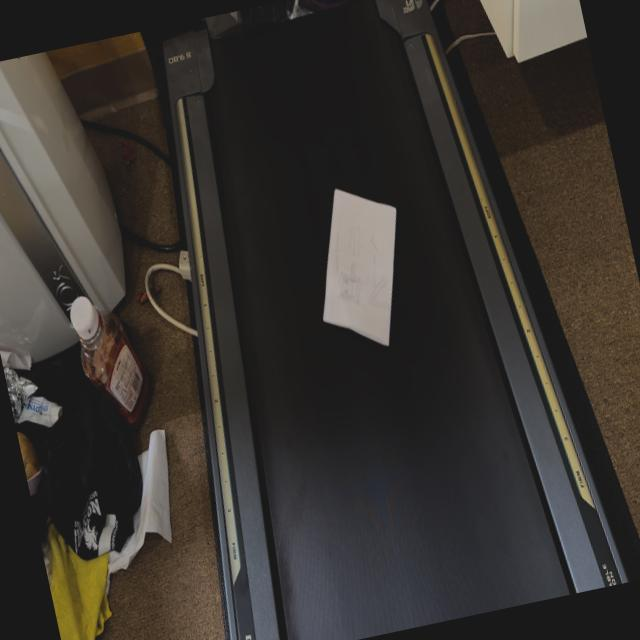Recycle: (295, 175, 424, 358)
